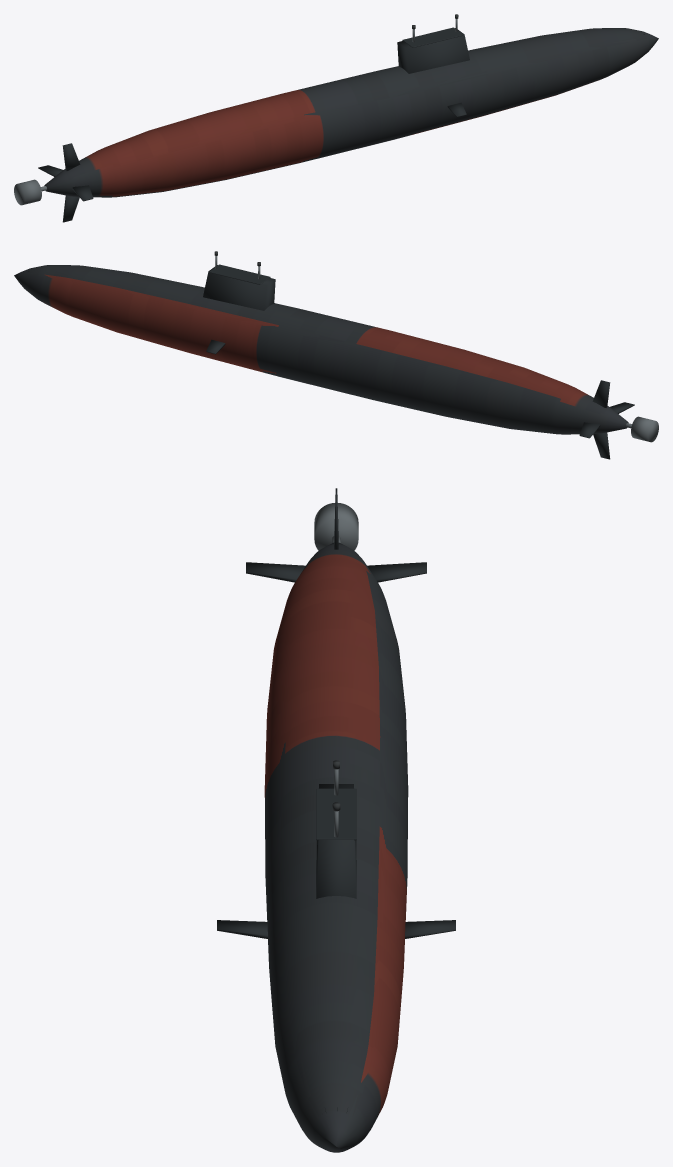
File: CN_SSN_Type093_LOD2.fbx
3 renders of one model, top to bottom at view 1: azimuth 30°, elevation 25°; view 2: azimuth 150°, elevation 25°; view 3: azimuth 270°, elevation 25°, orthographic. The views are drawn at different scales.
Visible parts, largest first — view 1: CN_SSN_Type093_LOD2; view 2: CN_SSN_Type093_LOD2; view 3: CN_SSN_Type093_LOD2.
Part boxes in pixels (bbox=[...]): CN_SSN_Type093_LOD2: bbox=[14, 14, 658, 222]; CN_SSN_Type093_LOD2: bbox=[14, 251, 658, 459]; CN_SSN_Type093_LOD2: bbox=[217, 488, 455, 1152].
Bounding box in the file's own units: 113 × 18.32 × 18.81.
6 materials, 1 textured.
